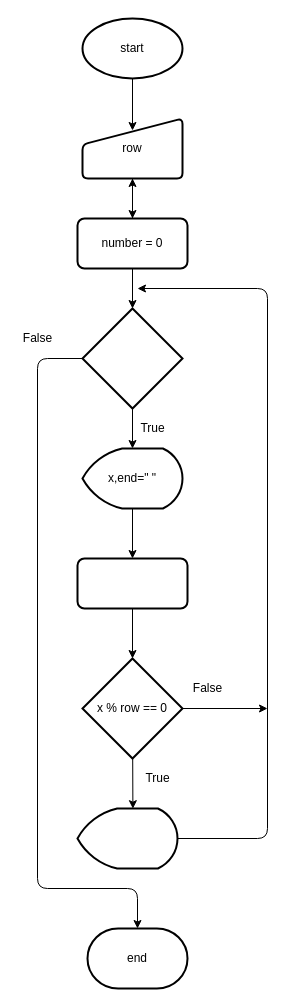
Image size: 293x1006. Some labels were removed from this diagram. Here are the shapes that lost their labels. From the top down, the centre of each, then its label:
point 132,358: x in range(1,101)
point 132,583: number += 1
point 127,838: \n
